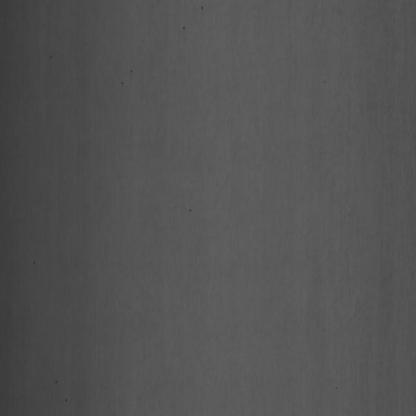inclusion: (120, 62, 135, 89), (180, 20, 188, 36), (198, 4, 206, 16)
